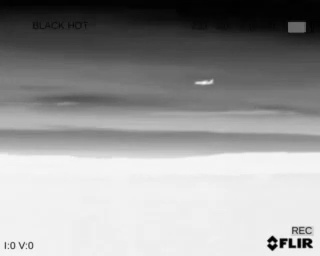AIRPLANE: (193, 76, 216, 88)
